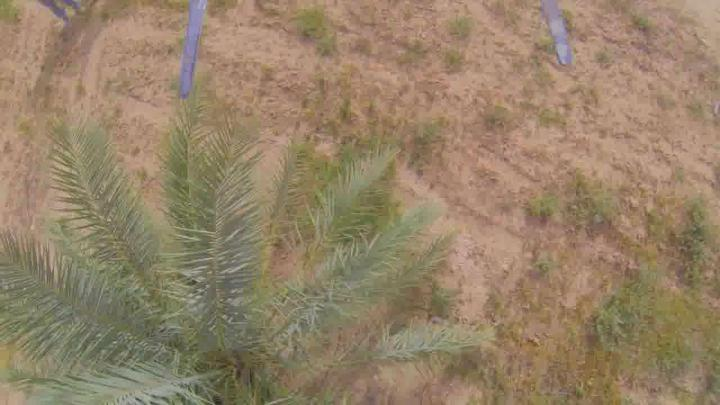Date-Palm-Crown: (32, 188, 371, 404)
